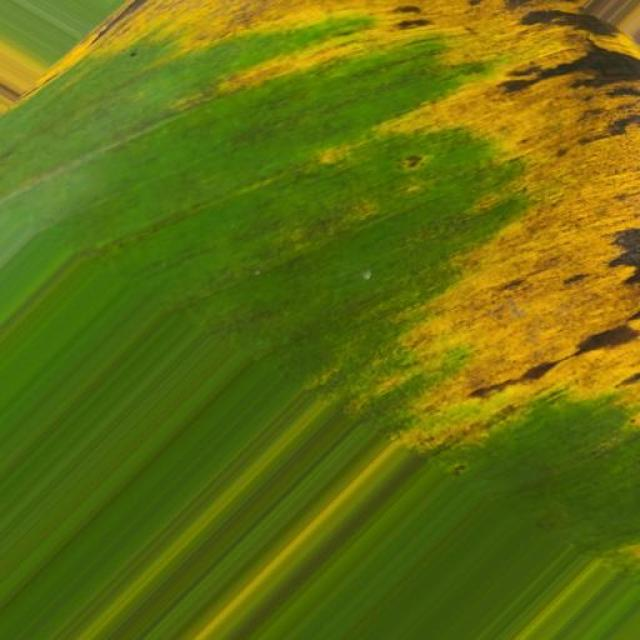Early_rust: (26, 0, 640, 480)
